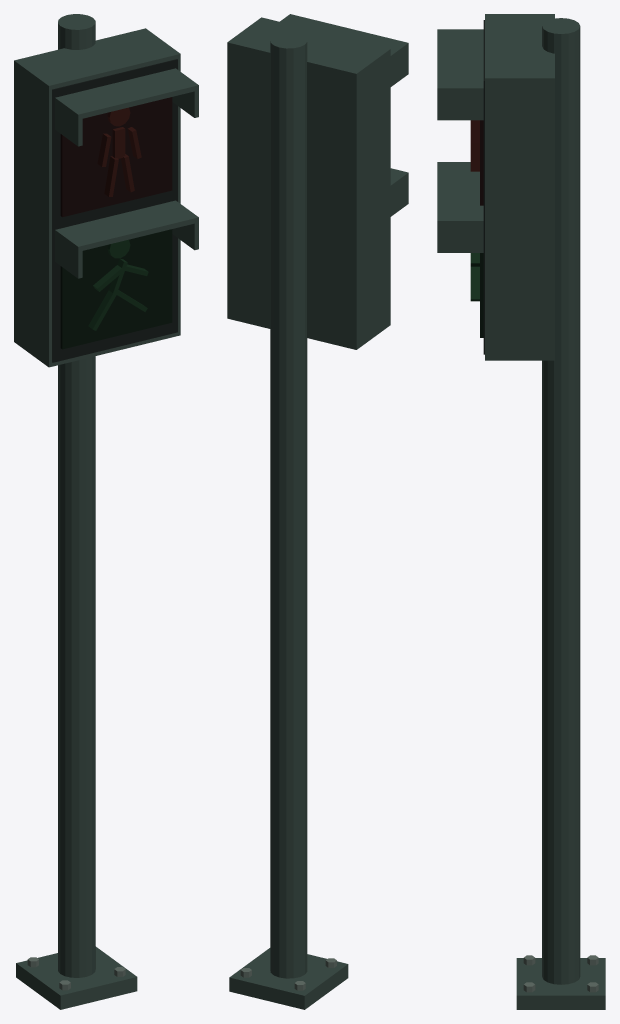
File: ped-signal-01.glb
3 views of the same model, side by side, from view 1: azimuth 30°, elevation 25°; view 2: azimuth 150°, elevation 25°; view 3: azimuth 270°, elevation 25° (orthographic). The views are drawn at different scales.
Parts seen in each view (by area): view 1: Pole, HeadHousing, lamp_ped_green_lens, lamp_ped_red_lens, HeadFront, BasePlate, lamp_ped_red_hood, lamp_ped_green_hood, lamp_ped_red, lamp_ped_green, lamp_ped_green_hood_side, lamp_ped_red_hood_side (+2 smaller); view 2: HeadHousing, Pole, BasePlate, lamp_ped_red_hood, lamp_ped_green_hood_side, lamp_ped_red_hood_side; view 3: Pole, HeadHousing, BasePlate, lamp_ped_red_hood, lamp_ped_green_hood, lamp_ped_green_hood_side.001, lamp_ped_red_hood_side.001, HeadFront, lamp_ped_red, lamp_ped_green.
Part boxes in pixels (x1,y1,x2,y2): Pole: [58, 14, 95, 977]; HeadHousing: [14, 28, 180, 367]; lamp_ped_green_lens: [60, 229, 172, 349]; lamp_ped_red_lens: [60, 97, 172, 217]; HeadFront: [52, 59, 177, 362]; BasePlate: [16, 946, 137, 1009]; lamp_ped_red_hood: [55, 68, 198, 119]; lamp_ped_green_hood: [55, 200, 198, 251]; lamp_ped_red: [97, 107, 141, 196]; lamp_ped_green: [88, 239, 148, 330]; lamp_ped_green_hood_side: [55, 233, 82, 278]; lamp_ped_red_hood_side: [55, 101, 82, 146]; HeadHousing: [227, 17, 390, 349]; Pole: [270, 33, 307, 978]; BasePlate: [229, 948, 348, 1009]; lamp_ped_red_hood: [280, 14, 408, 60]; lamp_ped_green_hood_side: [390, 176, 408, 216]; lamp_ped_red_hood_side: [390, 46, 408, 86]; Pole: [542, 18, 580, 984]; HeadHousing: [485, 14, 554, 360]; BasePlate: [516, 958, 605, 1009]; lamp_ped_red_hood: [437, 29, 483, 93]; lamp_ped_green_hood: [437, 162, 483, 226]; lamp_ped_green_hood_side.001: [437, 224, 483, 252]; lamp_ped_red_hood_side.001: [437, 93, 483, 120]; HeadFront: [483, 20, 484, 354]; lamp_ped_red: [470, 120, 479, 171]; lamp_ped_green: [470, 253, 479, 301].
Size of the model in its own units: 0.48 by 3.35 by 0.53.
